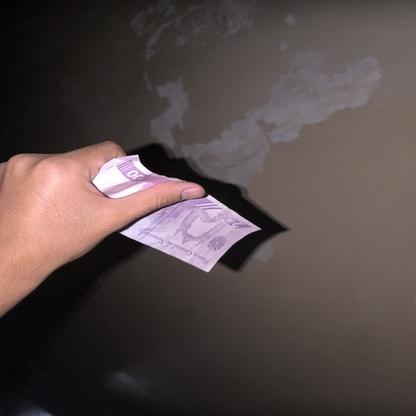one_hundred-back-vef: (90, 154, 262, 272)
